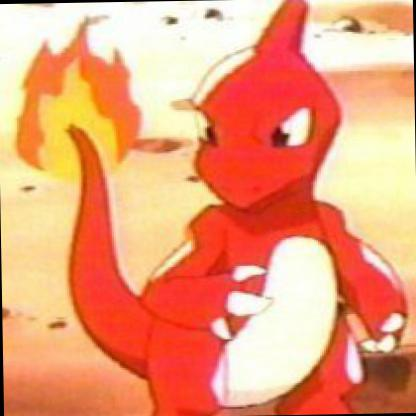Charmeleon: (1, 7, 416, 416)
